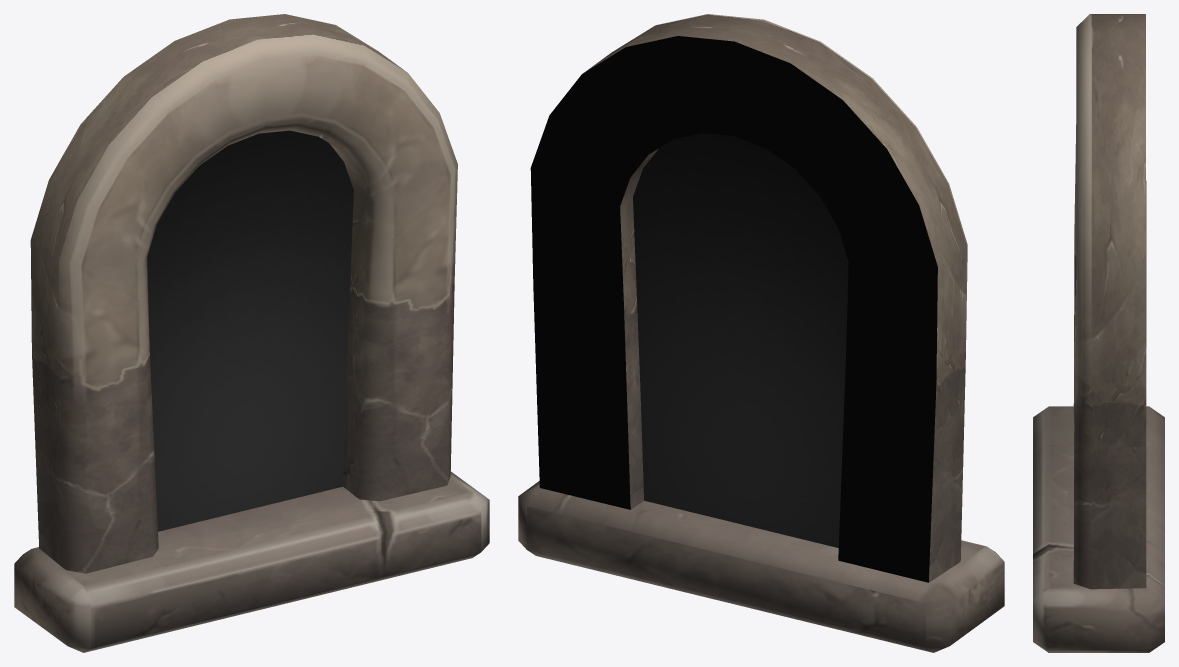
The model's file is DE_House_Mod_Part_25.fbx.
The picture shows the model from 3 angles, left to right: view 1: azimuth 30°, elevation 25°; view 2: azimuth 150°, elevation 25°; view 3: azimuth 270°, elevation 25°; orthographic projection. The views are drawn at different scales.
Parts seen in each view (by area): view 1: DE_House_Mod_Part_25; view 2: DE_House_Mod_Part_25; view 3: DE_House_Mod_Part_25.
Part boxes in pixels (box(x1,y1,x2,y2)): DE_House_Mod_Part_25: box(14, 14, 489, 652); DE_House_Mod_Part_25: box(518, 14, 1004, 652); DE_House_Mod_Part_25: box(1033, 14, 1164, 652).
Size of the model in its own units: 2.23 by 2.77 by 0.6263.
